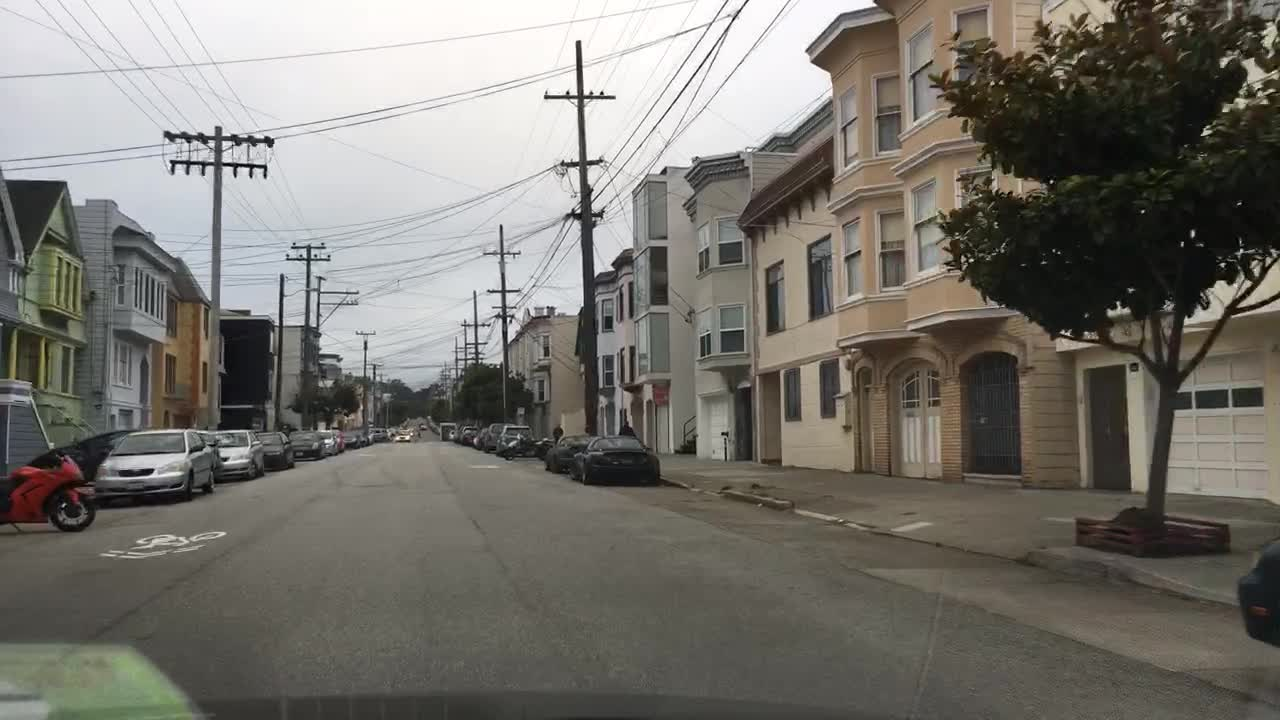car: (93, 426, 216, 503), (1236, 534, 1278, 647), (570, 437, 658, 485), (209, 429, 264, 480), (543, 432, 595, 471), (252, 431, 296, 470), (290, 429, 326, 458), (496, 425, 532, 453), (480, 422, 508, 452), (317, 428, 343, 455), (469, 426, 489, 449), (340, 428, 364, 447), (436, 420, 457, 440), (456, 425, 475, 443), (358, 428, 375, 446), (460, 431, 478, 446), (373, 425, 388, 441), (402, 425, 421, 437), (445, 425, 457, 443), (427, 425, 442, 434), (385, 428, 399, 437), (415, 422, 427, 432), (417, 420, 427, 432), (424, 413, 433, 425)
motor: (0, 452, 93, 528), (504, 434, 550, 459)
person: (616, 417, 636, 437), (552, 423, 562, 446)
